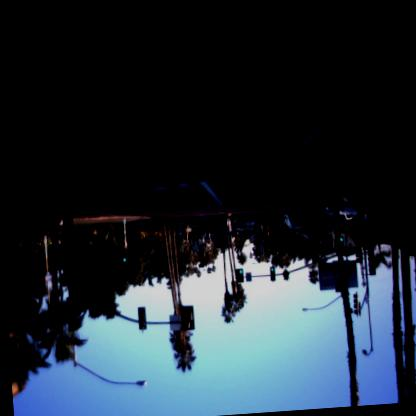trafficlight: (234, 268, 245, 284), (338, 236, 346, 254), (269, 266, 277, 282)
